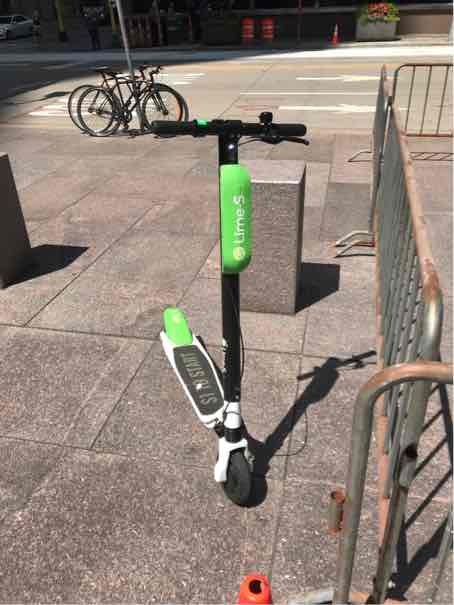scooter: (132, 107, 313, 514)
